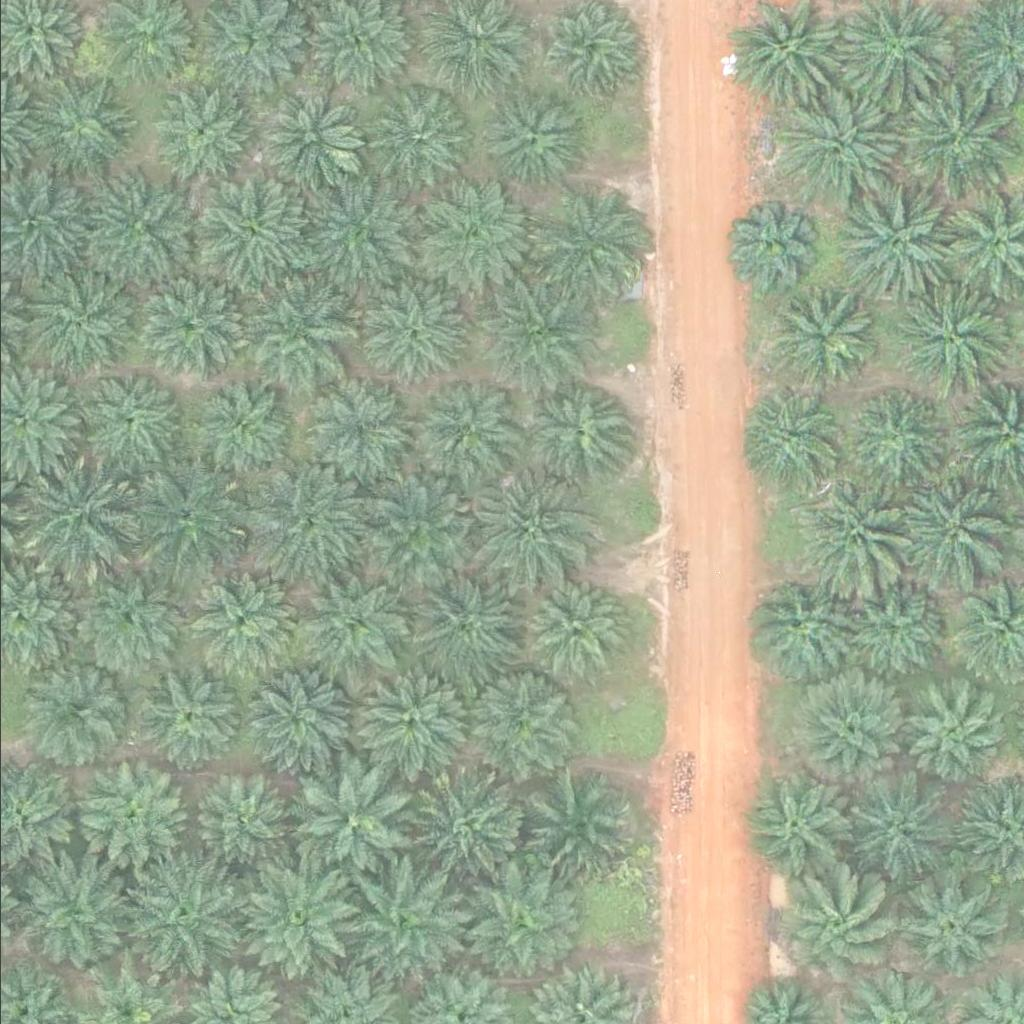Kelapa_Sawit: (768, 867, 894, 992), (241, 867, 355, 980), (297, 764, 411, 877), (292, 572, 406, 685), (131, 265, 245, 378), (775, 88, 889, 201), (459, 862, 572, 975), (78, 753, 191, 866), (463, 665, 576, 778), (359, 666, 472, 779), (127, 659, 240, 772), (19, 654, 132, 767), (404, 563, 517, 676), (358, 477, 471, 590), (254, 457, 367, 570), (411, 375, 524, 488), (475, 268, 588, 381), (354, 269, 467, 382), (14, 262, 127, 375), (526, 182, 639, 295), (409, 175, 522, 288), (194, 179, 307, 292), (92, 172, 205, 285), (10, 67, 123, 180), (843, 771, 956, 884), (736, 767, 849, 880), (899, 472, 1012, 585), (895, 280, 1008, 393), (12, 862, 126, 974), (184, 570, 298, 682), (520, 373, 634, 485), (344, 865, 457, 977), (124, 861, 237, 973), (523, 774, 636, 886), (412, 767, 525, 879), (234, 660, 347, 772), (73, 563, 186, 675), (470, 471, 583, 583), (130, 464, 243, 576), (17, 465, 130, 577), (242, 284, 355, 396), (298, 177, 411, 289), (247, 88, 360, 200), (892, 867, 1005, 979), (788, 676, 901, 788), (742, 570, 855, 682), (794, 475, 907, 587), (758, 282, 871, 394), (837, 192, 950, 304), (902, 81, 1015, 193), (522, 573, 623, 673), (84, 368, 185, 468), (300, 381, 401, 481), (486, 91, 587, 191), (357, 90, 458, 190), (148, 83, 249, 183), (898, 681, 999, 781), (841, 390, 942, 490), (732, 387, 833, 487), (191, 769, 291, 869), (186, 375, 286, 475), (852, 583, 952, 683), (721, 200, 809, 287)
